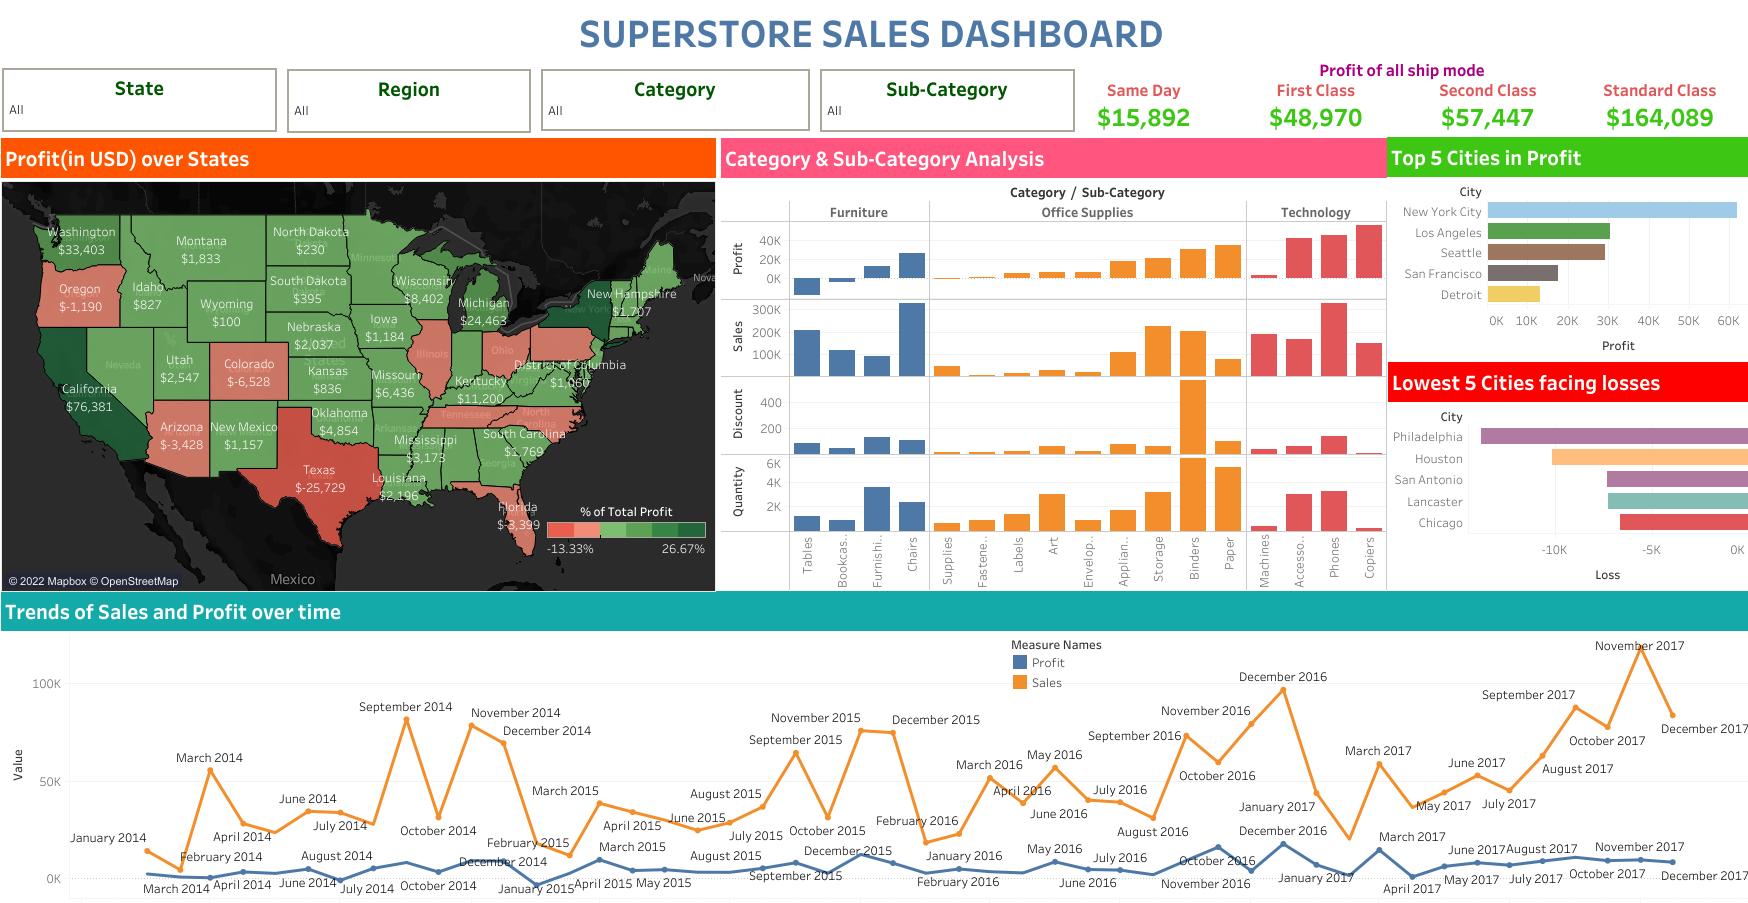

What the dashboard file says about the page in this screenshot:
{"tool":"tableau","page":{"name":"Dashboard","canvas":[1749,904],"ordinal":0},"visuals":[{"type":"filter","title":"Category & Sub-Category Analysis","param":"[federated.0t8d7qn1divolc1bq7xt000vdmif].[none:Category:nk]","box":[575,70,286,63]},{"type":"filter","title":"Category & Sub-Category Analysis","param":"[federated.0t8d7qn1divolc1bq7xt000vdmif].[none:Sub-Category:nk]","box":[880,70,279,62]},{"type":"filter","title":"Category & Sub-Category Analysis","param":"[federated.0t8d7qn1divolc1bq7xt000vdmif].[none:Region:nk]","box":[272,71,284,62]},{"type":"worksheet","title":"Category & Sub-Category Analysis","mark":"Automatic","rows":["Profit","Sales","Discount","Quantity"],"cols":["Category","Sub-Category"],"box":[697,138,717,452]},{"type":"legend","title":"Profit(in USD) over States","param":"[federated.0t8d7qn1divolc1bq7xt000vdmif].[pcto:sum:Profit:qk]","box":[520,499,167,75]},{"type":"legend","title":"Trends of Sales and Profit over time","param":"[federated.0t8d7qn1divolc1bq7xt000vdmif].[:Measure Names]","box":[962,644,179,68]}]}

Visuals, with their boxes in screenshot pixels (x1, y1, x2, y2), scaled from the page's 1749x904 canvas onto the 1748x903 screenshot:
"Category & Sub-Category Analysis" filter: (575,70,861,133)
"Category & Sub-Category Analysis" filter: (879,70,1158,132)
"Category & Sub-Category Analysis" filter: (272,71,556,133)
"Category & Sub-Category Analysis" worksheet: (697,138,1413,589)
"Profit(in USD) over States" legend: (520,498,687,573)
"Trends of Sales and Profit over time" legend: (961,643,1140,711)
